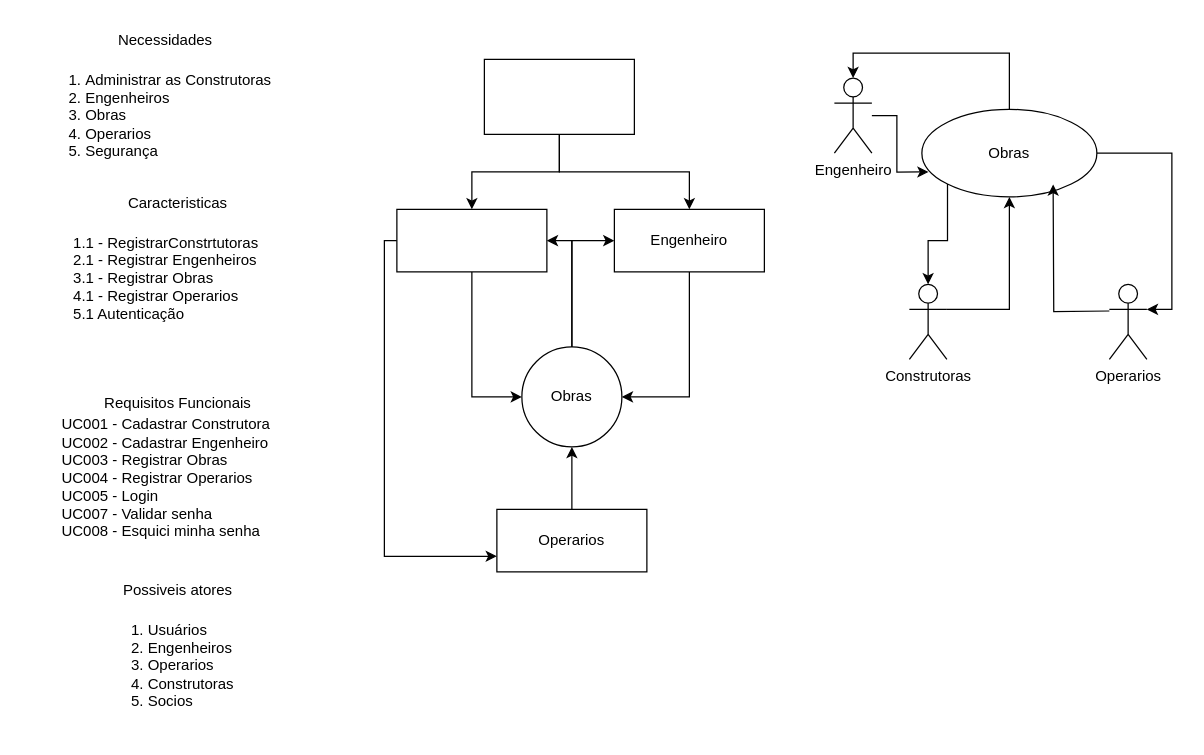
The diagram is 1204 pixels wide and 755 high, and some of its shapes have lost their labels. Here are the shapes that lost their labels. From the top down, the centre of each, then its label:
At point 558,96: "socios".
At point 471,240: "Construtora".
